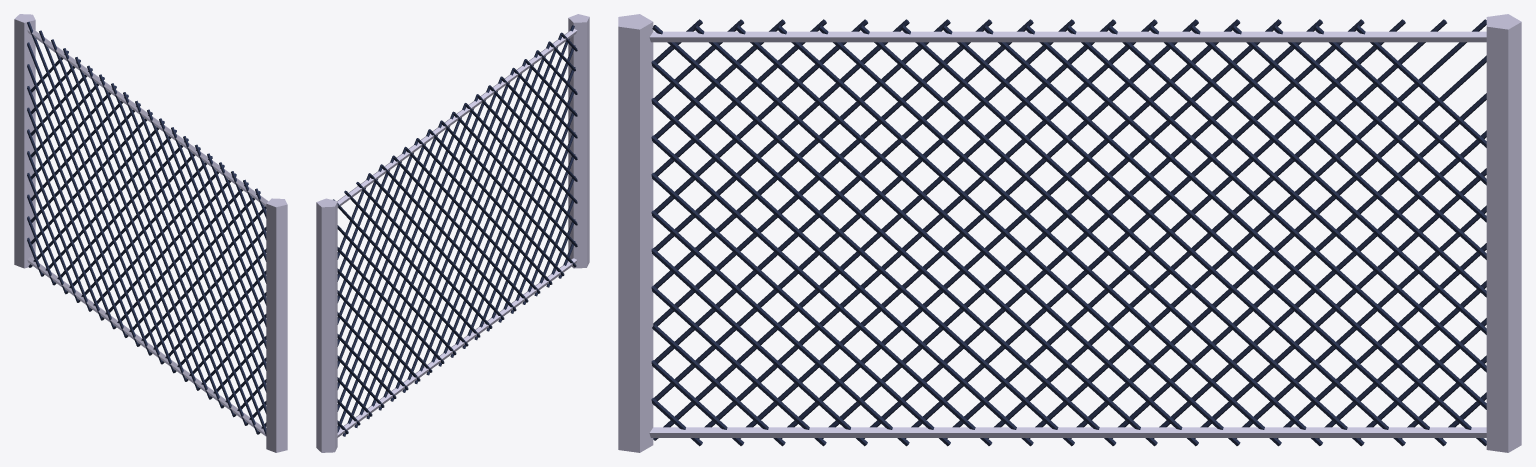
File: fence.obj
3 views of the same model, side by side, from view 1: azimuth 30°, elevation 25°; view 2: azimuth 150°, elevation 25°; view 3: azimuth 270°, elevation 25° (orthographic). The views are drawn at different scales.
Visible parts, largest first — view 1: Cylinder.1285_Cylinder.1372; view 2: Cylinder.1285_Cylinder.1372; view 3: Cylinder.1285_Cylinder.1372.
Part boxes in pixels (x1=…): Cylinder.1285_Cylinder.1372: x1=14, y1=14, x2=287, y2=452; Cylinder.1285_Cylinder.1372: x1=316, y1=14, x2=589, y2=452; Cylinder.1285_Cylinder.1372: x1=618, y1=14, x2=1521, y2=452.
Bounding box in the file's own units: 0.2022 × 2.56 × 4.94.
